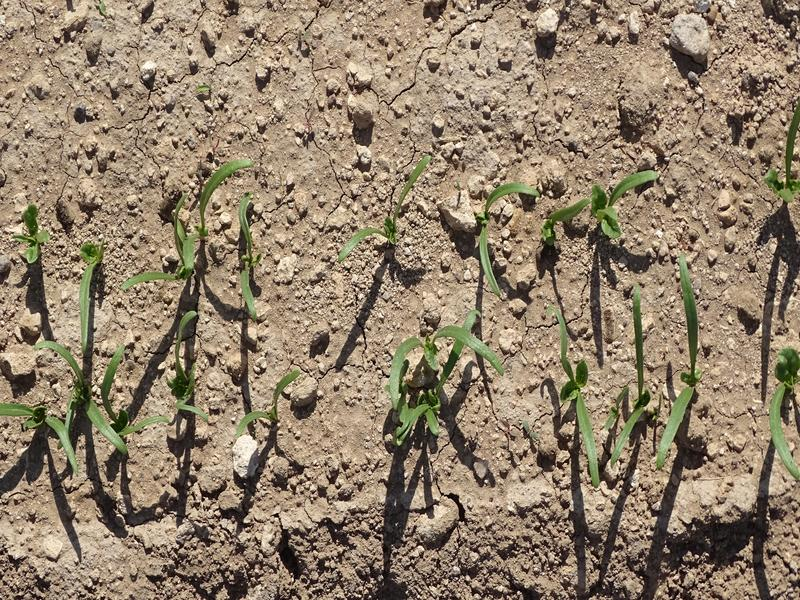Espinaca: (553, 254, 702, 485), (5, 311, 198, 475), (117, 156, 264, 311), (383, 303, 498, 439), (336, 155, 433, 265), (547, 164, 655, 244), (477, 176, 531, 297), (765, 346, 800, 482), (235, 367, 301, 435), (79, 246, 95, 349), (16, 227, 54, 264)
